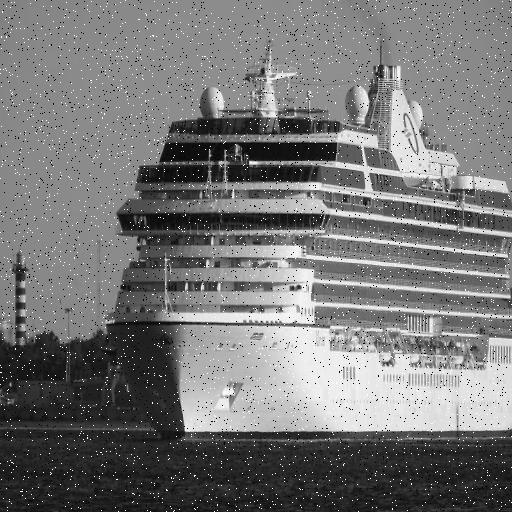cruises: (104, 38, 512, 449)
